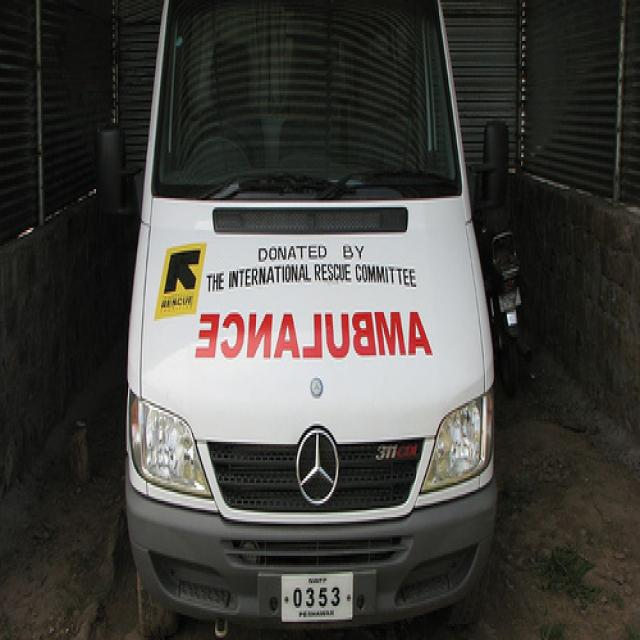emergency-vehicle: (128, 14, 495, 622)
